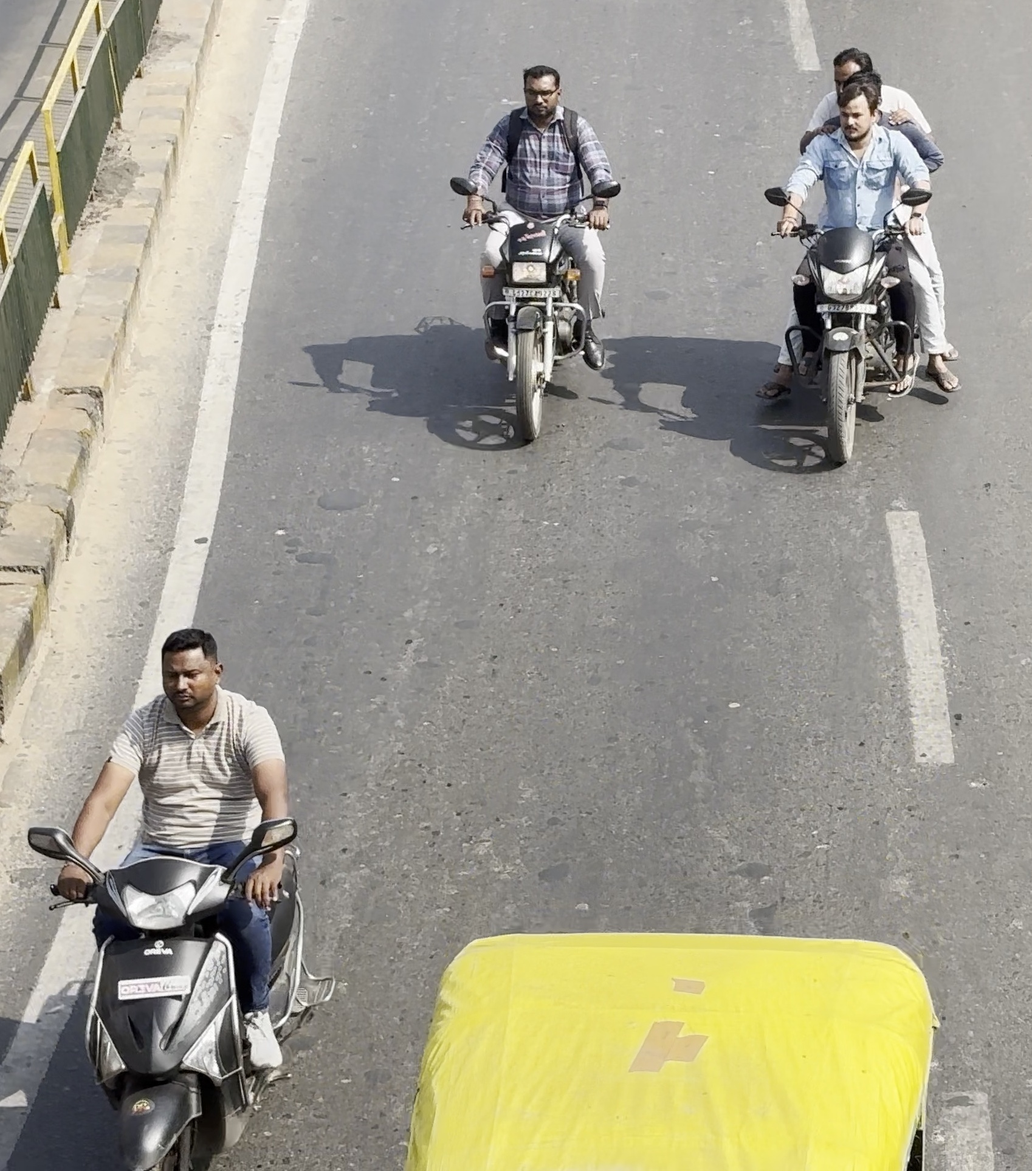BikeWithRider: (16, 616, 354, 1171), (742, 37, 971, 471)
NoHelmet: (439, 57, 638, 452), (142, 621, 239, 724), (506, 57, 572, 125), (831, 88, 890, 148), (824, 40, 886, 97), (834, 67, 894, 120)
